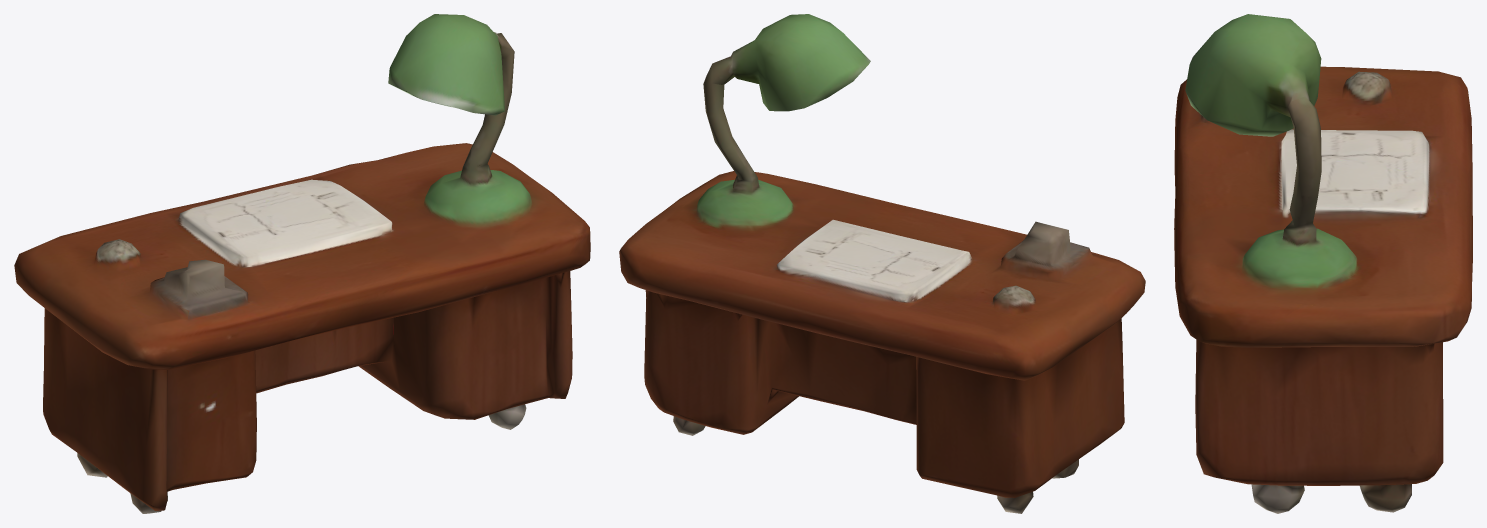
File: bureau_direction.glb
3 views of the same model, side by side, from view 1: azimuth 30°, elevation 25°; view 2: azimuth 150°, elevation 25°; view 3: azimuth 270°, elevation 25° (orthographic). The views are drawn at different scales.
Visible parts, largest first — view 1: bureau_direction; view 2: bureau_direction; view 3: bureau_direction.
Part boxes in pixels (left/top/right/bottom): bureau_direction: left=14, top=14, right=590, bottom=513; bureau_direction: left=619, top=14, right=1145, bottom=513; bureau_direction: left=1174, top=14, right=1472, bottom=513.
Bounding box in the file's own units: 0.2857 × 0.2447 × 0.1441.
Materials: 1 (1 with a texture image).
